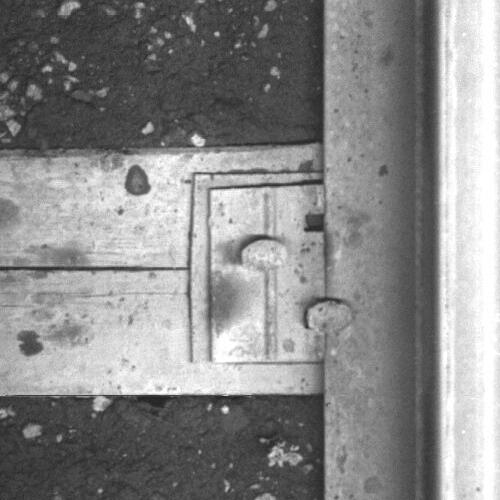do: (208, 182, 356, 363)
hole_do: (296, 202, 336, 241)
rail: (436, 1, 500, 500)
tie_wood: (1, 155, 322, 395)
wood_crack: (1, 259, 191, 278)
